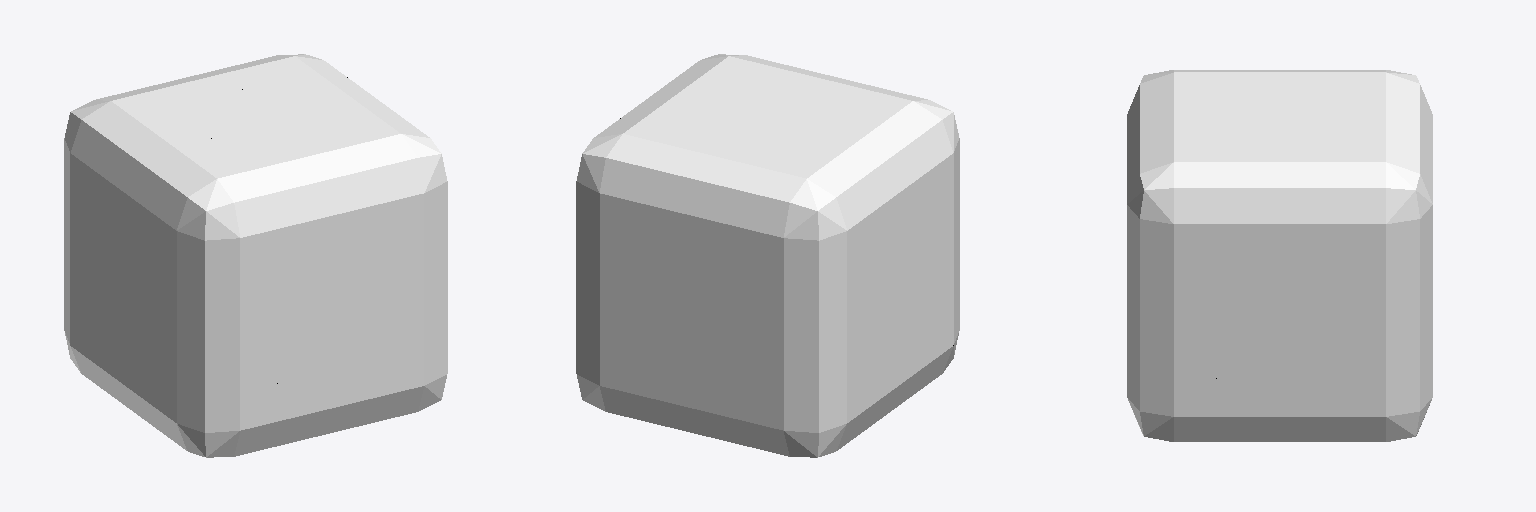
3 renders of one model, left to right at view 1: azimuth 30°, elevation 25°; view 2: azimuth 150°, elevation 25°; view 3: azimuth 270°, elevation 25°, orthographic.
Visible parts, largest first — view 1: Cube; view 2: Cube; view 3: Cube.
Boxes of the visible parts, <box> form: Cube: <box>64,54,447,457</box>; Cube: <box>576,54,959,457</box>; Cube: <box>1127,70,1432,441</box>.
Size of the model in its own units: 2 by 2 by 2.
1 materials, 1 textured.